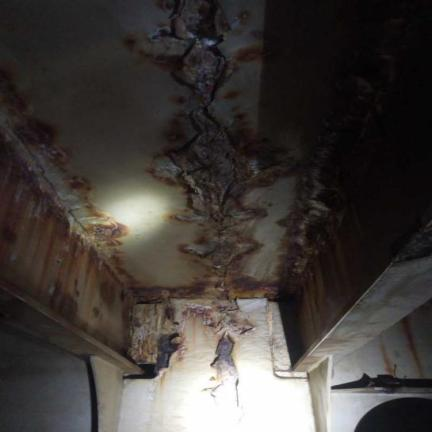karat: (130, 0, 337, 302)
